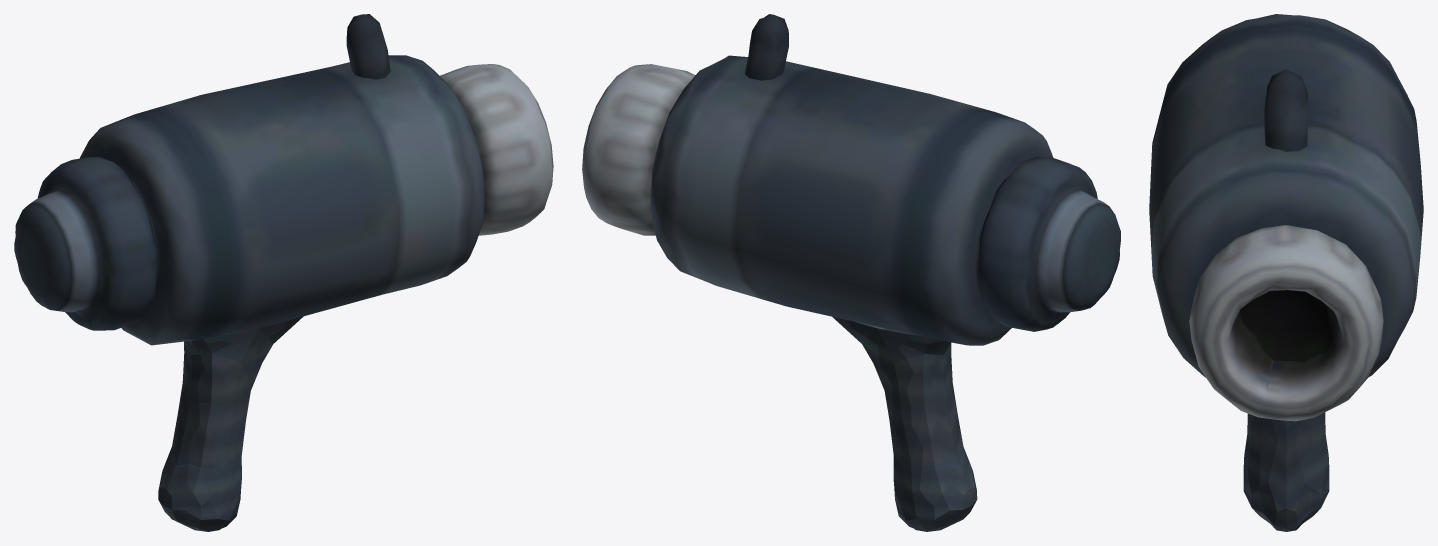
Rendered from PaintGun.fbx.
The picture shows the model from 3 angles, left to right: view 1: azimuth 30°, elevation 25°; view 2: azimuth 150°, elevation 25°; view 3: azimuth 270°, elevation 25°; orthographic projection. The views are drawn at different scales.
Visible parts, largest first — view 1: group1.005; view 2: group1.005; view 3: group1.005.
Part boxes in pixels (x1,y1,x2,y2): group1.005: (14,14,553,531); group1.005: (582,14,1120,531); group1.005: (1149,14,1423,531).
Size of the model in its own units: 895 by 838 by 385.
